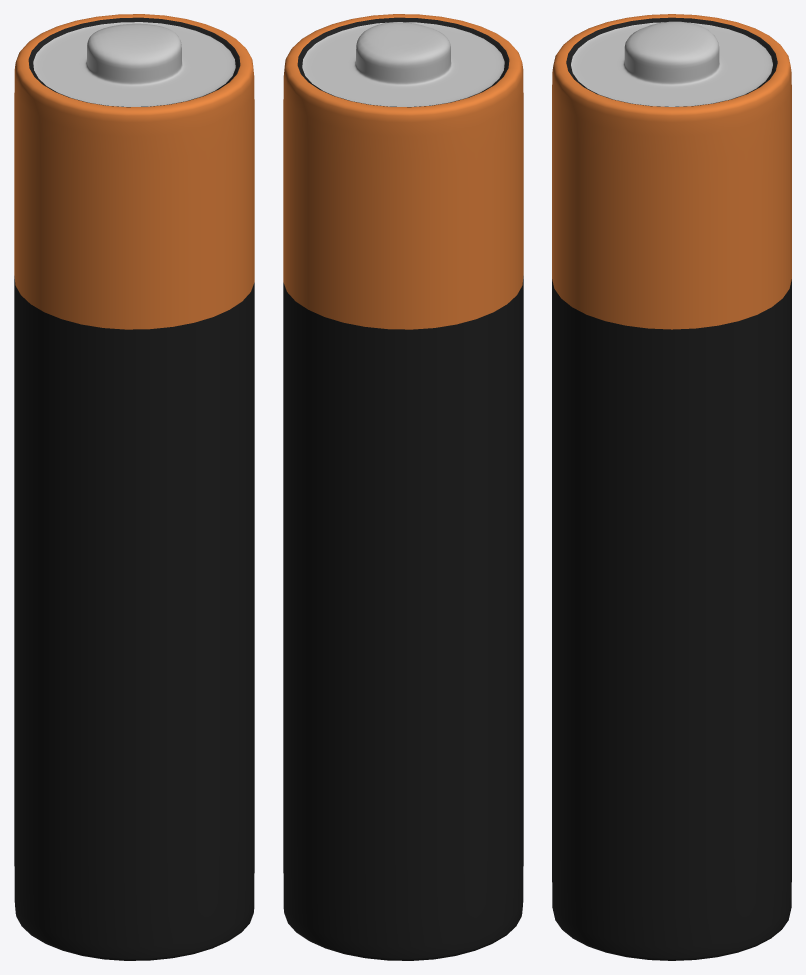
File: battery.fbx
3 views of the same model, side by side, from view 1: azimuth 30°, elevation 25°; view 2: azimuth 150°, elevation 25°; view 3: azimuth 270°, elevation 25° (orthographic).
Parts seen in each view (by area): view 1: Cube; view 2: Cube; view 3: Cube.
Boxes of the visible parts, bbox=[...] form: Cube: bbox=[14, 14, 254, 960]; Cube: bbox=[283, 14, 523, 960]; Cube: bbox=[552, 14, 791, 960].
Bounding box in the file's own units: 181 × 739 × 181.
